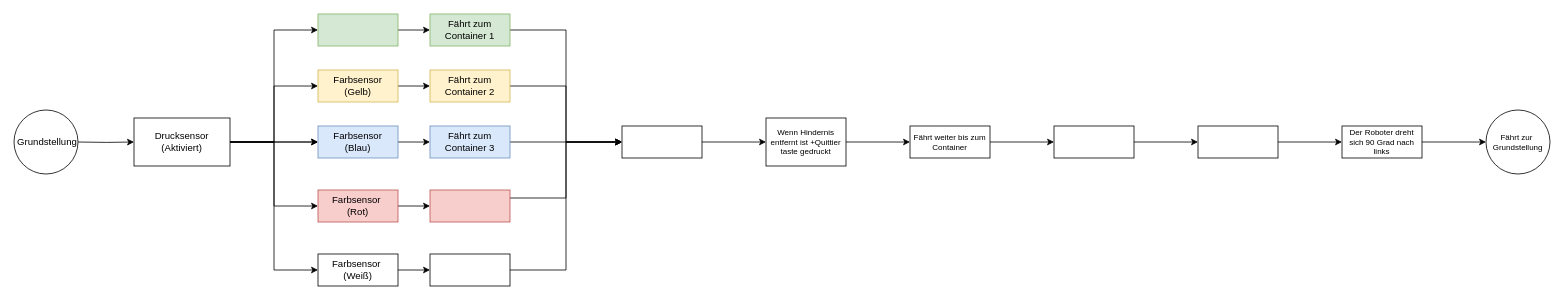
Image size: 1564x300. Some labels were removed from this diagram. Here are the shapes that lost their labels. From the top down, the centre of each, then its label:
At pixel 357 29: "Farbsensor (Grün)".
At pixel 661 141: "Hindernisse erkannt = Roboter stoppt".
At pixel 1093 141: "Der Roboter dreht sich um 90 Grad nach rechts".
At pixel 1237 141: "Das Paket wir mit dem Paketschieber ausgeworfen".
At pixel 469 205: "Fährt zum Container 4".
At pixel 469 269: "Fährt zum Container 5".
